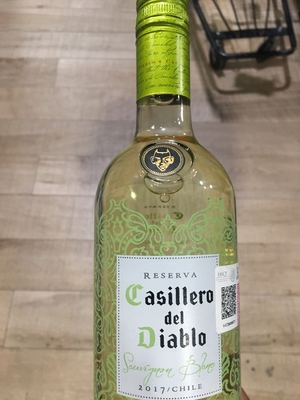casillero del diablo sauvignon blanc: (92, 20, 239, 400)
